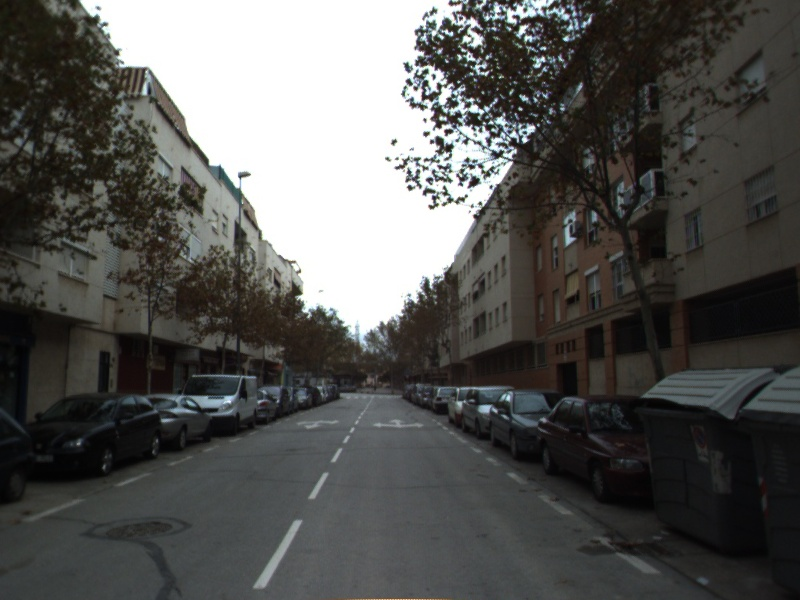STRAIGHT_LEFT_RIGHT: (371, 416, 427, 430)
